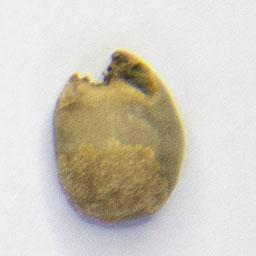defect: (49, 47, 187, 228)
